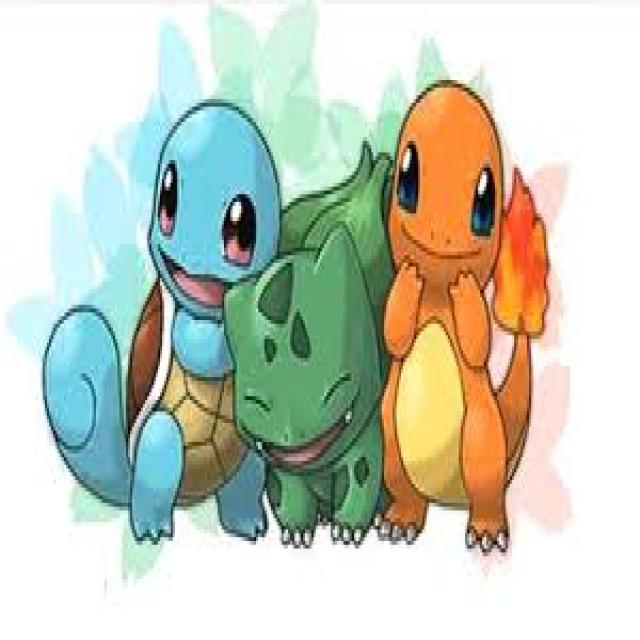Bulbasaur: (226, 217, 388, 544)
Charmander: (384, 73, 513, 547)
Squirtle: (114, 94, 266, 537)
